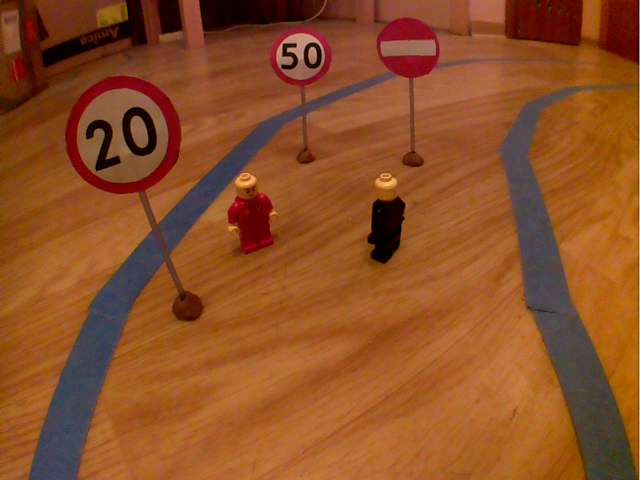Ograniczenie 20: (62, 71, 187, 199)
Ograniczenie 50: (267, 25, 335, 89)
Postac LEGO: (220, 163, 286, 257), (360, 166, 410, 271)
Zakaz: (373, 13, 444, 83)
